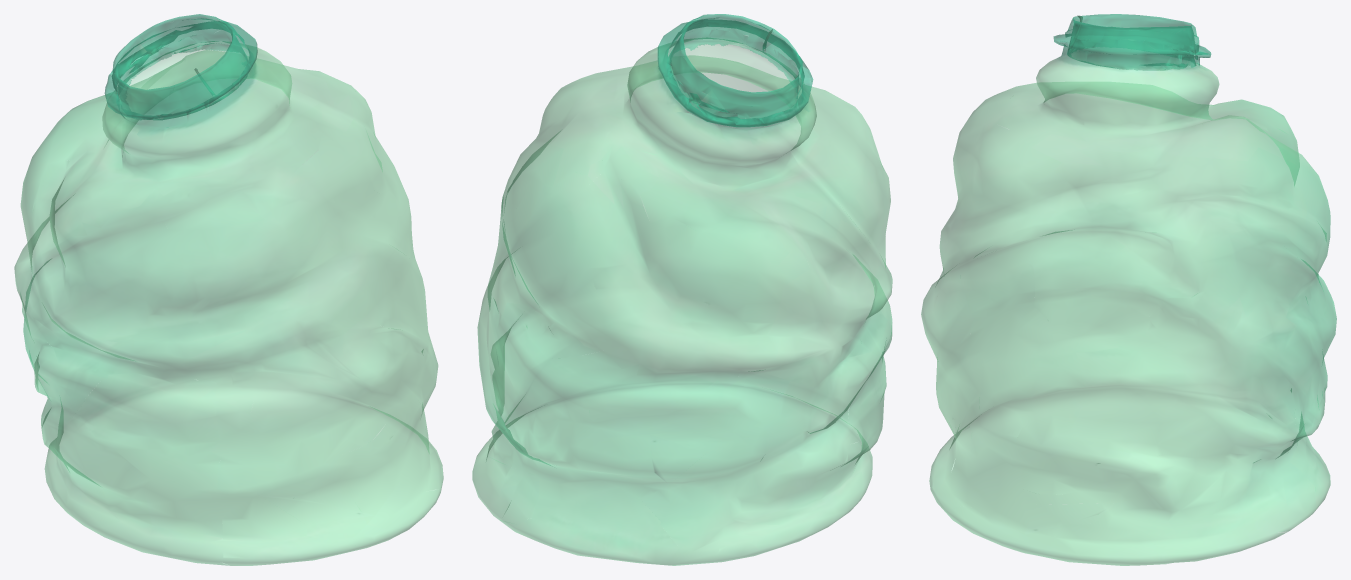
Rendered from 07_9_nj_et_gre_m_trs-opt-v43.glb.
3 views of the same model, side by side, from view 1: azimuth 30°, elevation 25°; view 2: azimuth 150°, elevation 25°; view 3: azimuth 270°, elevation 25° (orthographic). The views are drawn at different scales.
Visible parts, largest first — view 1: yeşil.005; view 2: yeşil.005; view 3: yeşil.005.
Boxes of the visible parts, bbox=[...] form: yeşil.005: bbox=[14, 14, 443, 565]; yeşil.005: bbox=[472, 14, 892, 565]; yeşil.005: bbox=[921, 14, 1336, 565].
Bounding box in the file's own units: 0.2033 × 0.2499 × 0.2037.
Materials: 1 (1 with a texture image).
